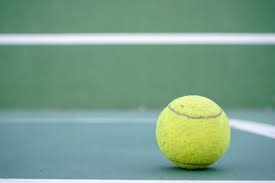tennis_ball: (155, 94, 232, 170)
